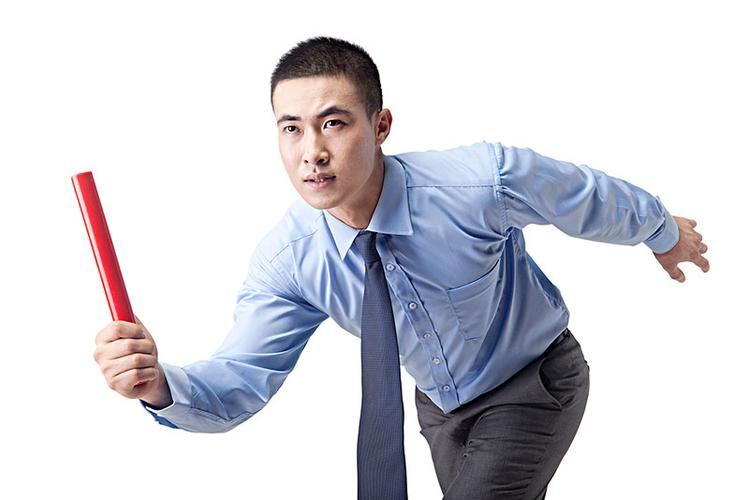no-phone: (60, 166, 163, 403)
